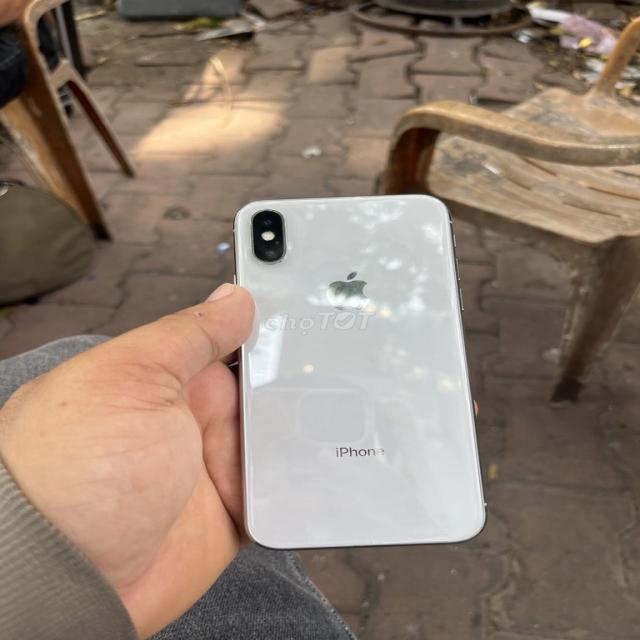gen_x_xs: (207, 186, 500, 552)
